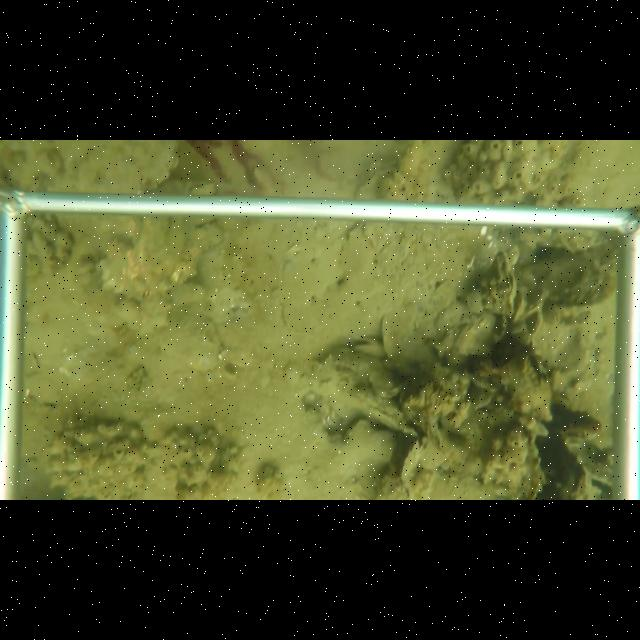Oyster-Closed: (295, 367, 414, 436), (136, 176, 186, 293), (462, 250, 516, 320), (455, 315, 496, 359), (524, 307, 546, 338)
Oyster-Open: (345, 334, 386, 360)
